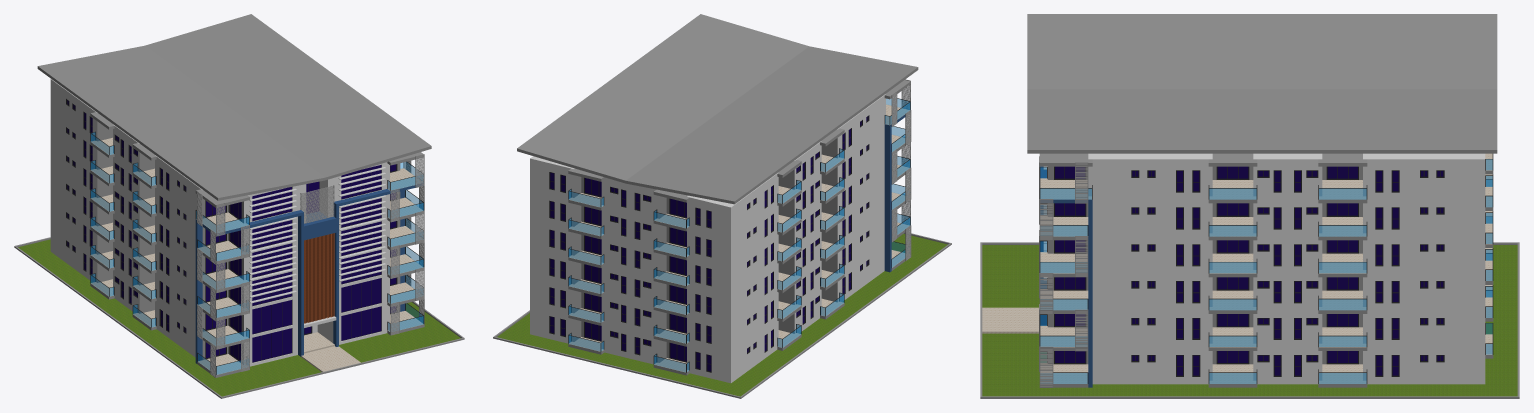
The model's file is library.fbx.
The picture shows the model from 3 angles, left to right: view 1: azimuth 30°, elevation 25°; view 2: azimuth 150°, elevation 25°; view 3: azimuth 270°, elevation 25°; orthographic projection. The views are drawn at different scales.
Parts seen in each view (by area): view 1: Building_14_obj; view 2: Building_14_obj; view 3: Building_14_obj.
Part boxes in pixels (box(x1,y1,x2,y2)): Building_14_obj: box(14, 14, 464, 398); Building_14_obj: box(493, 14, 951, 398); Building_14_obj: box(980, 14, 1519, 398).
Bounding box in the file's own units: 1080 × 780 × 1591.
9 materials, 4 textured.
